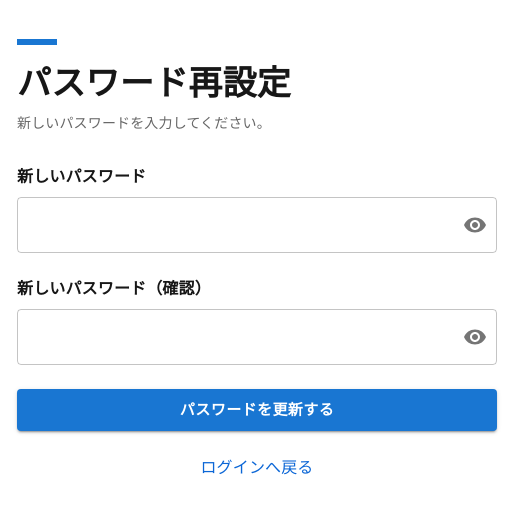
PasswordReset Presenter › トークンが有効なとき › 未入力で送信すると必須エラーが表示され、送信されない
The width and height of the screenshot is (515, 515).
Click the button "パスワードを更新する".
click(257, 410)  # box [17,389,497,431]
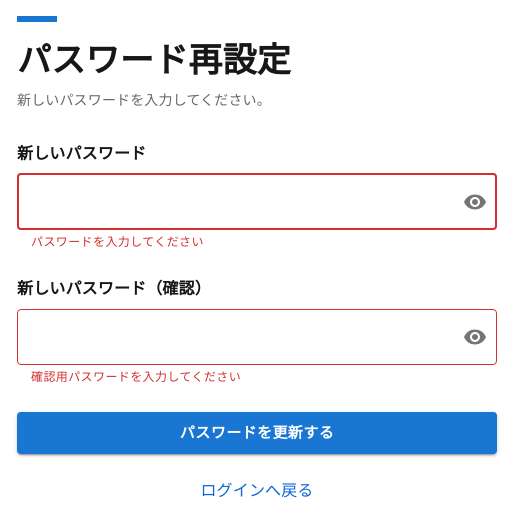
Check: the text "パスワードを入力してください" is shown, box [31,235,204,249]
Check: the text "確認用パスワードを入力してください" is shown, box [31,370,241,384]
